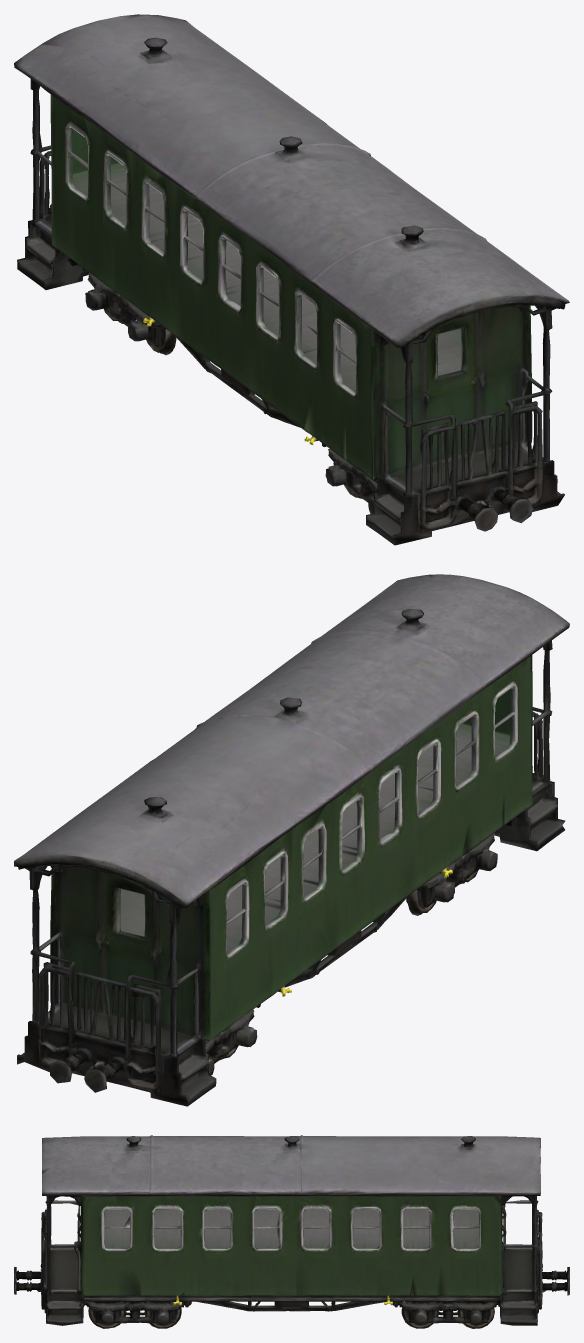
Rendered from zsb_gruen.glb.
The picture shows the model from 3 angles, top to bottom: view 1: azimuth 30°, elevation 25°; view 2: azimuth 150°, elevation 25°; view 3: azimuth 270°, elevation 25°; orthographic projection. The views are drawn at different scales.
Parts seen in each view (by area): view 1: tripo_node_11817aae-9712-4aae-8692-42f7da8da77d; view 2: tripo_node_11817aae-9712-4aae-8692-42f7da8da77d; view 3: tripo_node_11817aae-9712-4aae-8692-42f7da8da77d.
Part boxes in pixels (x1,y1,x2,y2): tripo_node_11817aae-9712-4aae-8692-42f7da8da77d: (14, 14, 569, 545); tripo_node_11817aae-9712-4aae-8692-42f7da8da77d: (14, 574, 569, 1106); tripo_node_11817aae-9712-4aae-8692-42f7da8da77d: (14, 1135, 569, 1328).
Size of the model in its own units: 0.2318 by 0.3551 by 0.9797.
1 material, 1 textured.
